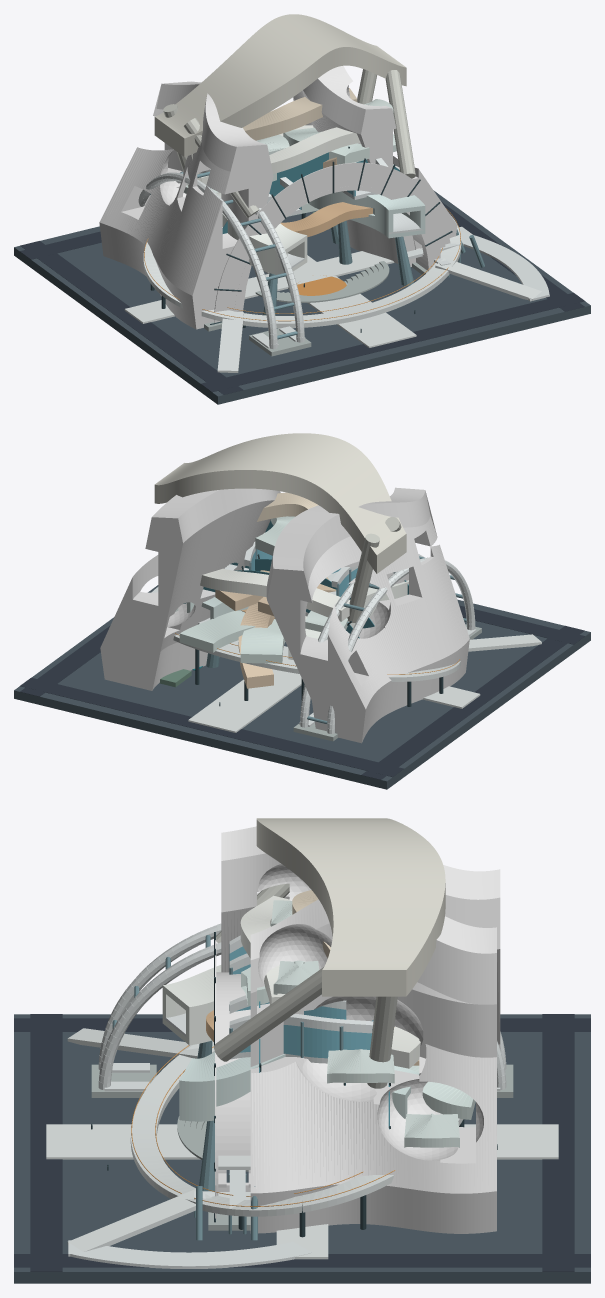
Rendered from a13_b_unified_megafold.glb.
3 renders of one model, top to bottom at view 1: azimuth 30°, elevation 25°; view 2: azimuth 150°, elevation 25°; view 3: azimuth 270°, elevation 25°, orthographic. The views are drawn at different scales.
Visible parts, largest first — view 1: District base, A11_WEST_FAULT_ESCARPMENT_REAL_VOID, A13_UNIFIED_FOLDED_CIVIC_SKY, A11_EAST_SKY_FOLD_REAL_VOID, SOUTH continuous glazed occupied band_A9_FLARED, Continuous elliptical public promenade, E-W road, N-S road, Public ground, continuous E-W axis, A10_EAST_INHABITED_TIDAL_SHELL, Public ground, continuous N-S axis, A12_UPPER_UNIFIED_CIVIC_CRESCENT (+19 smaller); view 2: A11_WEST_FAULT_ESCARPMENT_REAL_VOID, District base, A11_EAST_SKY_FOLD_REAL_VOID, A13_UNIFIED_FOLDED_CIVIC_SKY, E-W road.001, N-S road, Public ground, continuous N-S axis, A11_LOW_FAULT_SKY_BOULEVARD, A11_EAST_OCCUPIED_STRATUM_0, A11_WEST_OCCUPIED_STRATUM_0, Continuous elliptical public promenade, E-W road (+10 smaller); view 3: A11_EAST_SKY_FOLD_REAL_VOID, District base, A13_UNIFIED_FOLDED_CIVIC_SKY, A11_WEST_FAULT_ESCARPMENT_REAL_VOID, E-W road, E-W road.001, Continuous elliptical public promenade, Public ground, continuous N-S axis, N-S road.001, A10_EAST_INHABITED_TIDAL_SHELL, A7_APPROACH_CURVED_DECK, SOUTH inner load shell_A7_PORTAL (+17 smaller).
Part boxes in pixels (<box>): District base: <box>14,190,590,404</box>; A11_WEST_FAULT_ESCARPMENT_REAL_VOID: <box>99,81,273,329</box>; A13_UNIFIED_FOLDED_CIVIC_SKY: <box>154,14,406,156</box>; A11_EAST_SKY_FOLD_REAL_VOID: <box>292,65,457,266</box>; SOUTH continuous glazed occupied band_A9_FLARED: <box>214,162,450,322</box>; Continuous elliptical public promenade: <box>143,214,461,328</box>; E-W road: <box>201,292,584,392</box>; N-S road: <box>20,241,243,394</box>; Public ground, continuous E-W axis: <box>124,226,472,323</box>; A10_EAST_INHABITED_TIDAL_SHELL: <box>308,191,425,238</box>; Public ground, continuous N-S axis: <box>264,255,416,347</box>; A12_UPPER_UNIFIED_CIVIC_CRESCENT: <box>243,88,357,140</box>; A11_WEST_FAULT_ESCARPMENT_REAL_VOID: <box>266,487,469,743</box>; District base: <box>14,585,590,789</box>; A11_EAST_SKY_FOLD_REAL_VOID: <box>100,488,280,690</box>; A13_UNIFIED_FOLDED_CIVIC_SKY: <box>154,433,406,573</box>; E-W road.001: <box>20,677,403,777</box>; N-S road: <box>361,625,584,779</box>; Public ground, continuous N-S axis: <box>188,669,301,732</box>; A11_LOW_FAULT_SKY_BOULEVARD: <box>200,568,349,621</box>; A11_EAST_OCCUPIED_STRATUM_0: <box>179,610,255,652</box>; A11_WEST_OCCUPIED_STRATUM_0: <box>240,619,285,663</box>; Continuous elliptical public promenade: <box>173,634,460,681</box>; E-W road: <box>459,605,584,644</box>; A11_EAST_SKY_FOLD_REAL_VOID: <box>250,899,496,1233</box>; District base: <box>14,1014,590,1283</box>; A13_UNIFIED_FOLDED_CIVIC_SKY: <box>256,818,445,996</box>; A11_WEST_FAULT_ESCARPMENT_REAL_VOID: <box>221,826,500,1048</box>; E-W road: <box>30,1014,62,1271</box>; E-W road.001: <box>542,1014,574,1271</box>; Continuous elliptical public promenade: <box>130,1041,463,1216</box>; Public ground, continuous N-S axis: <box>46,1124,558,1159</box>; N-S road.001: <box>14,1254,590,1267</box>; A10_EAST_INHABITED_TIDAL_SHELL: <box>179,1052,419,1121</box>; A7_APPROACH_CURVED_DECK: <box>68,1240,311,1268</box>; SOUTH inner load shell_A7_PORTAL: <box>216,972,250,1195</box>.
Size of the model in its own units: 188 by 110 by 178.
